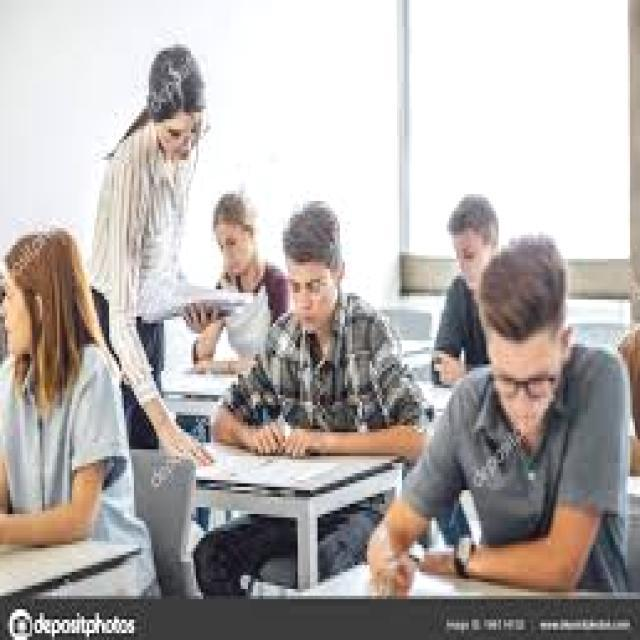cheating: (0, 215, 140, 566)
good: (367, 226, 636, 593), (209, 196, 429, 496)
